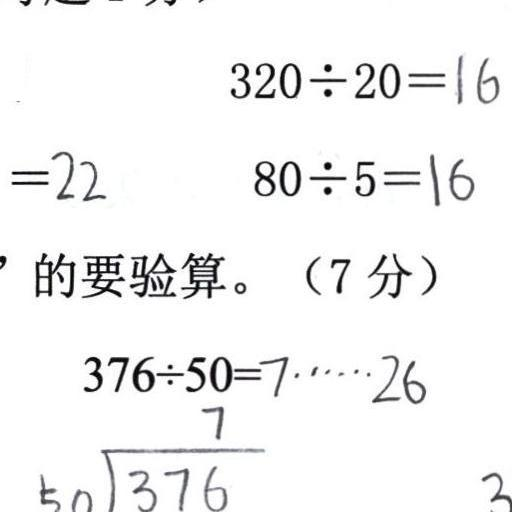ans: (257, 347, 426, 406), (46, 145, 105, 202), (447, 48, 499, 105), (423, 148, 474, 206)
